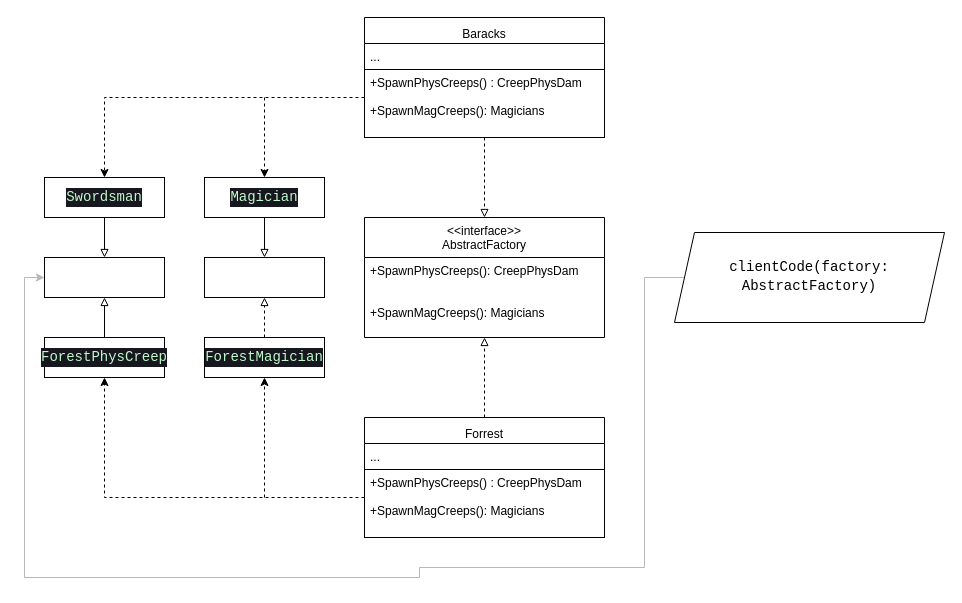
Some shapes in this 962 by 603 pixel diagram are drawn without their labels. Each missing label, with the centre of its shape:
"MagCreeps" belongs at (x=264, y=277).
"PhysCreeps" belongs at (x=104, y=277).
